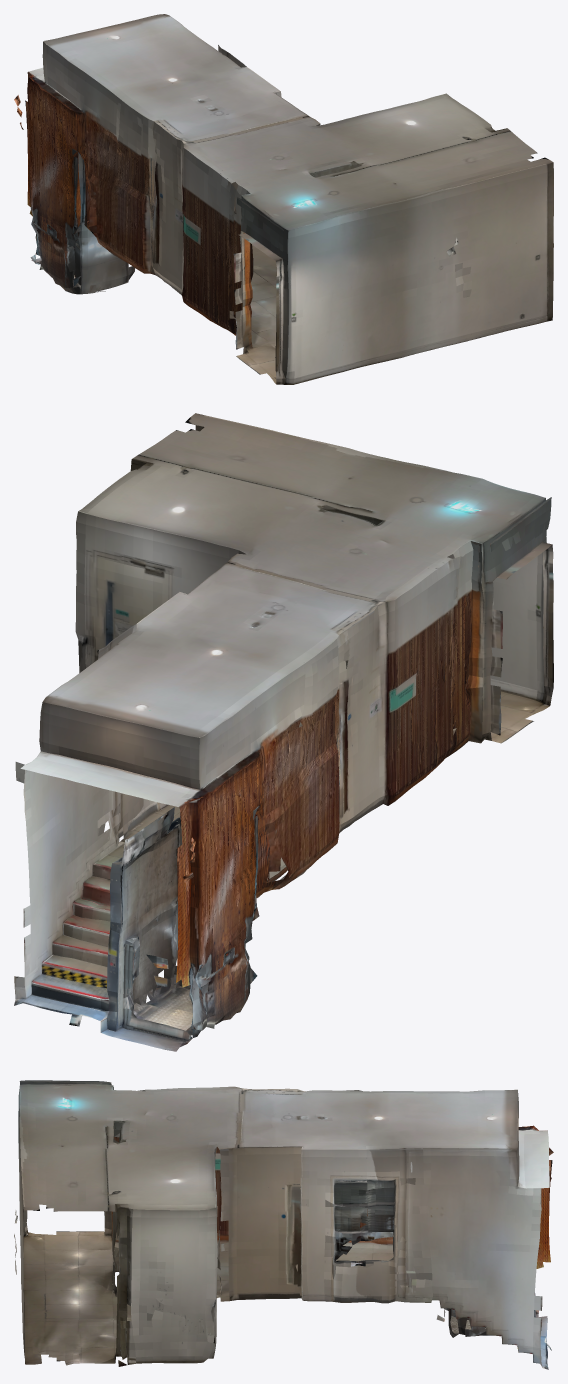
The model's file is G_corridor_4-IM.fbx.
3 renders of one model, top to bottom at view 1: azimuth 30°, elevation 25°; view 2: azimuth 150°, elevation 25°; view 3: azimuth 270°, elevation 25°, orthographic. The views are drawn at different scales.
Visible parts, largest first — view 1: G_corridor_4-IM; view 2: G_corridor_4-IM; view 3: G_corridor_4-IM.
Boxes of the visible parts, bbox=[...] form: G_corridor_4-IM: bbox=[14, 14, 553, 384]; G_corridor_4-IM: bbox=[14, 413, 553, 1051]; G_corridor_4-IM: bbox=[14, 1080, 553, 1369].
Bounding box in the file's own units: 563 × 451 × 965.
Materials: 1 (1 with a texture image).
